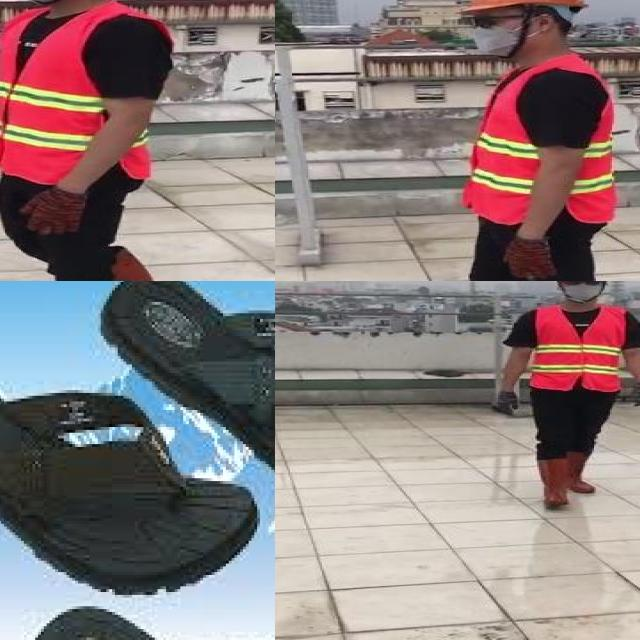Sandals: (0, 281, 275, 640)
boots: (100, 245, 177, 281), (535, 458, 571, 507), (569, 455, 598, 495)
face_mask: (463, 12, 521, 56), (559, 281, 605, 301)
glasses: (461, 12, 509, 32), (560, 281, 601, 287)
hand_glove: (19, 188, 87, 234), (502, 237, 558, 280), (491, 391, 517, 416), (633, 383, 640, 407)
head_helmet: (458, 0, 595, 12)
person: (389, 0, 631, 281), (0, 0, 188, 281), (490, 281, 640, 509)
vest: (0, 7, 150, 182), (467, 61, 618, 224), (534, 304, 626, 393)
